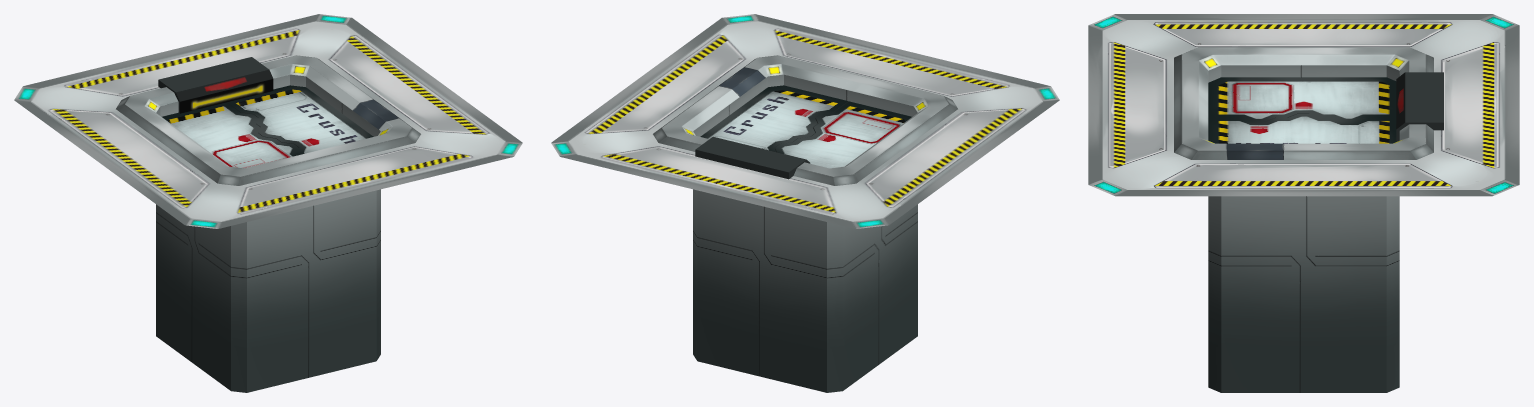
The model's file is hatch.fbx.
3 renders of one model, left to right at view 1: azimuth 30°, elevation 25°; view 2: azimuth 150°, elevation 25°; view 3: azimuth 270°, elevation 25°, orthographic. The views are drawn at different scales.
Parts seen in each view (by area): view 1: Hole2, Ground, Door_right, Door_left; view 2: Hole2, Ground, Door_right, Door_left; view 3: Hole2, Ground, Door_left, Door_right.
Boxes of the visible parts, x1,y1,x2,y2 form: Hole2: (116,55,420,392); Ground: (14,14,522,228); Door_right: (227,85,373,154); Door_left: (162,102,298,168); Hole2: (653,55,957,392); Ground: (551,14,1059,228); Door_right: (700,85,848,151); Door_left: (775,101,911,168); Hole2: (1174,47,1443,392); Ground: (1088,14,1519,196); Door_left: (1208,77,1396,121); Door_right: (1208,113,1396,143).
Size of the model in its own units: 542 by 354 by 542.
3 materials, 3 textured.
